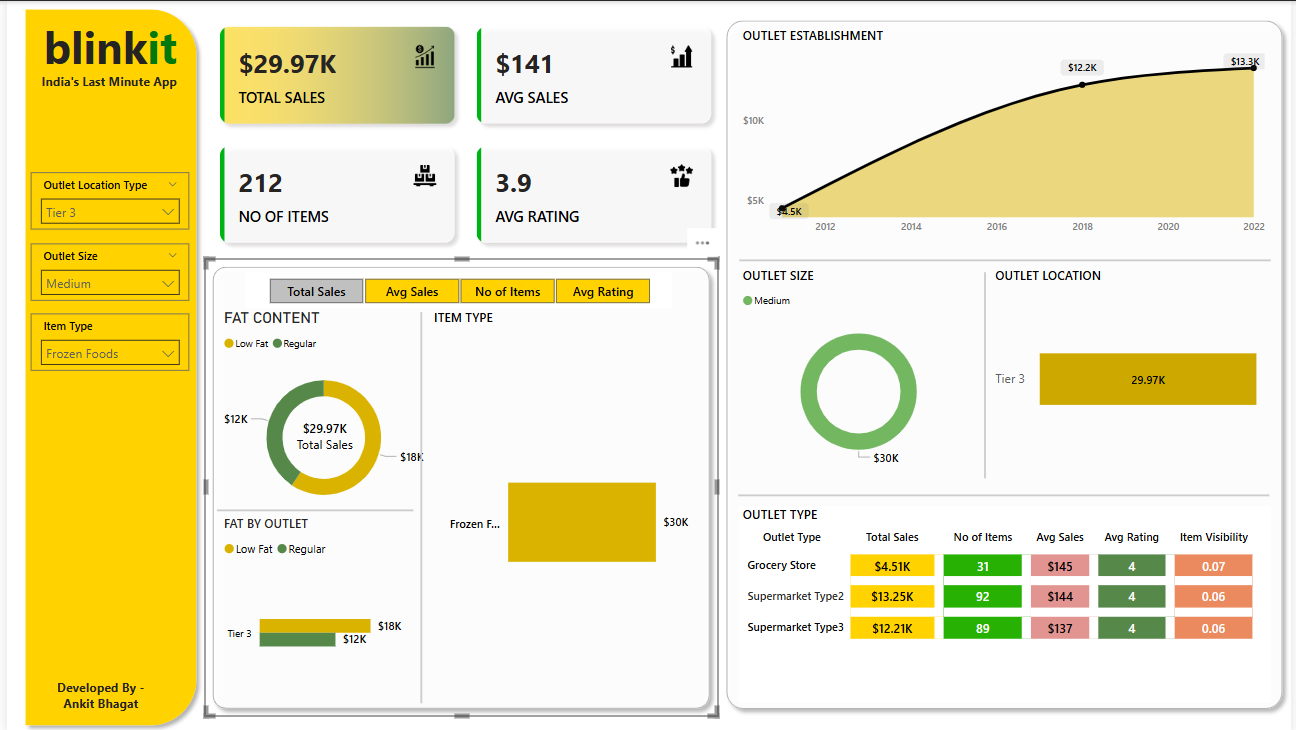

This screenshot's page, from the dashboard's own definition file:
{"tool":"powerbi","page":{"name":"Page 1","canvas":[1400,800],"ordinal":0},"visuals":[{"type":"shape","box":[10.5,0,205,800],"z":0},{"type":"textbox","box":[28.5,12,168.1,75],"z":1000},{"type":"textbox","box":[33.1,73.1,176.2,30],"z":2000},{"type":"cardVisual","fields":{"Data":["BlinkIT Grocery Data.Total Sales","BlinkIT Grocery Data.Avg Sales","BlinkIT Grocery Data.No of Items","BlinkIT Grocery Data.Avg Rating"]},"box":[215.7,11.4,570,270],"z":3000},{"type":"shape","box":[215.4,280.8,560.3,500.3],"z":4000},{"type":"donutChart","title":"FAT CONTENT","fields":{"Y":["BlinkIT Grocery Data.Total Sales"],"Category":["BlinkIT Grocery Data.Item Fat Content"]},"box":[231.4,335.7,228.6,235.7],"z":5000},{"type":"slicer","fields":{"Values":["Metrics.Metrics"]},"box":[260.4,295.8,464.9,39.5],"z":6000},{"type":"cardVisual","fields":{"Data":["BlinkIT Grocery Data.Total Sales"]},"box":[278.1,417.2,137.7,114.5],"z":7000},{"type":"clusteredBarChart","title":"FAT BY OUTLET","fields":{"Y":["BlinkIT Grocery Data.Total Sales"],"Category":["BlinkIT Grocery Data.Outlet Location Type"],"Series":["BlinkIT Grocery Data.Item Fat Content"]},"box":[231.8,560.3,211.3,205.9],"z":8000},{"type":"shape","box":[229,550.8,214,9.5],"z":9000},{"type":"shape","box":[443.1,339.5,17.7,426.7],"z":10000},{"type":"barChart","title":"ITEM TYPE","fields":{"Y":["BlinkIT Grocery Data.Total Sales"],"Category":["BlinkIT Grocery Data.Item Type"]},"box":[460.8,335.4,293.1,445.8],"z":11000},{"type":"shape","box":[775.7,12.3,624.4,768.9],"z":12000},{"type":"lineChart","title":"OUTLET ESTABLISHMENT","fields":{"Category":["BlinkIT Grocery Data.Outlet Establishment Year"],"Y":["BlinkIT Grocery Data.Total Sales"]},"box":[797.6,28.6,579.4,234.5],"z":13000},{"type":"shape","box":[797,531.3,579.3,15],"z":14000},{"type":"donutChart","title":"OUTLET SIZE","fields":{"Y":["BlinkIT Grocery Data.Total Sales"],"Category":["BlinkIT Grocery Data.Outlet Size"]},"box":[797.6,290.4,263.1,226.3],"z":15000},{"type":"shape","box":[1061.1,295.7,12,225.1],"z":16000},{"type":"funnel","title":"OUTLET LOCATION","fields":{"Y":["Sum(BlinkIT Grocery Data.Sales)"],"Category":["BlinkIT Grocery Data.Outlet Location Type"]},"box":[1072.9,290.4,299.9,226.3],"z":17000},{"type":"shape","box":[798.9,275.4,579.4,15],"z":18000},{"type":"pivotTable","title":"OUTLET TYPE","fields":{"Rows":["BlinkIT Grocery Data.Outlet Type"],"Values":["BlinkIT Grocery Data.Total Sales","BlinkIT Grocery Data.No of Items","BlinkIT Grocery Data.Avg Sales","BlinkIT Grocery Data.Avg Rating","Avg(BlinkIT Grocery Data.Item Visibility)"]},"box":[797,550.8,580.8,214.6],"z":19000},{"type":"slicer","fields":{"Values":["BlinkIT Grocery Data.Outlet Location Type"]},"box":[25.9,186.8,173.1,62.7],"z":20000},{"type":"slicer","fields":{"Values":["BlinkIT Grocery Data.Outlet Size"]},"box":[25.9,264.5,173.1,62.7],"z":21000},{"type":"slicer","fields":{"Values":["BlinkIT Grocery Data.Item Type"]},"box":[25.9,340.8,173.1,62.7],"z":22000},{"type":"textbox","box":[0,734.8,204.5,61.4],"z":23000}]}

Visuals, with their boxes in screenshot pixels (x1, y1, x2, y2), scaled from the page's 1400x800 canvas onto the 1296x730 screenshot:
shape: <bbox>10, 0, 199, 729</bbox>
textbox: <bbox>26, 11, 182, 79</bbox>
textbox: <bbox>31, 67, 194, 94</bbox>
cardVisual - BlinkIT Grocery Data.Total Sales x BlinkIT Grocery Data.Avg Sales: <bbox>200, 10, 727, 257</bbox>
shape: <bbox>199, 256, 718, 713</bbox>
"FAT CONTENT" donutChart: <bbox>214, 306, 426, 521</bbox>
slicer - Metrics.Metrics: <bbox>241, 270, 671, 306</bbox>
cardVisual - BlinkIT Grocery Data.Total Sales: <bbox>257, 381, 385, 485</bbox>
"FAT BY OUTLET" clusteredBarChart: <bbox>215, 511, 410, 699</bbox>
shape: <bbox>212, 503, 410, 511</bbox>
shape: <bbox>410, 310, 427, 699</bbox>
"ITEM TYPE" barChart: <bbox>427, 306, 698, 713</bbox>
shape: <bbox>718, 11, 1295, 713</bbox>
"OUTLET ESTABLISHMENT" lineChart: <bbox>738, 26, 1275, 240</bbox>
shape: <bbox>738, 485, 1274, 498</bbox>
"OUTLET SIZE" donutChart: <bbox>738, 265, 982, 471</bbox>
shape: <bbox>982, 270, 993, 475</bbox>
"OUTLET LOCATION" funnel: <bbox>993, 265, 1271, 471</bbox>
shape: <bbox>740, 251, 1276, 265</bbox>
"OUTLET TYPE" pivotTable: <bbox>738, 503, 1275, 698</bbox>
slicer - BlinkIT Grocery Data.Outlet Location Type: <bbox>24, 170, 184, 228</bbox>
slicer - BlinkIT Grocery Data.Outlet Size: <bbox>24, 241, 184, 299</bbox>
slicer - BlinkIT Grocery Data.Item Type: <bbox>24, 311, 184, 368</bbox>
textbox: <bbox>0, 671, 189, 727</bbox>
